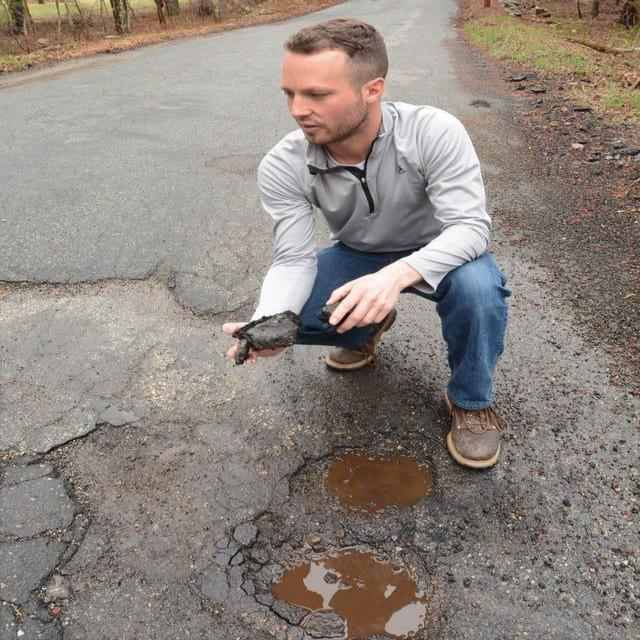Pothole: (267, 542, 434, 638), (322, 433, 434, 519)
